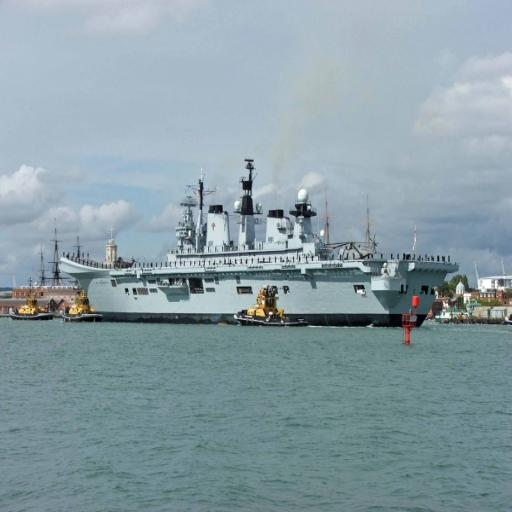Portanaves: (53, 155, 463, 339)
